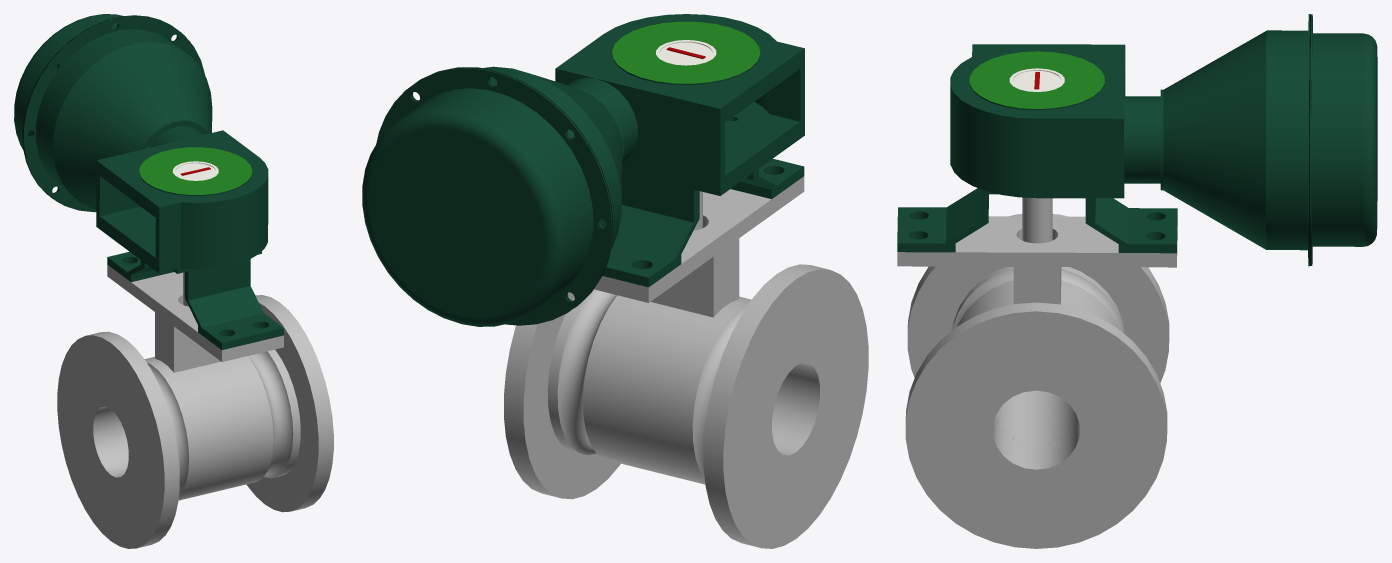
The model's file is BallValve06062021.FBX.
3 views of the same model, side by side, from view 1: azimuth 30°, elevation 25°; view 2: azimuth 150°, elevation 25°; view 3: azimuth 270°, elevation 25° (orthographic). The views are drawn at different scales.
Visible parts, largest first — view 1: Solid1 (×4), Solid2; view 2: Solid1 (×4), Solid2; view 3: Solid1 (×4), Solid2, Solid3.
Boxes of the visible parts, x1=… form: Solid1 (×4): x1=14, y1=14, x2=333, y2=548; Solid2: x1=23, y1=16, x2=268, y2=273; Solid1 (×4): x1=362, y1=40, x2=868, y2=548; Solid2: x1=412, y1=14, x2=804, y2=307; Solid1 (×4): x1=897, y1=14, x2=1377, y2=548; Solid2: x1=950, y1=14, x2=1310, y2=266; Solid3: x1=995, y1=197, x2=1077, y2=444.
Bounding box in the file's own units: 14.9 × 28.01 × 24.74.
